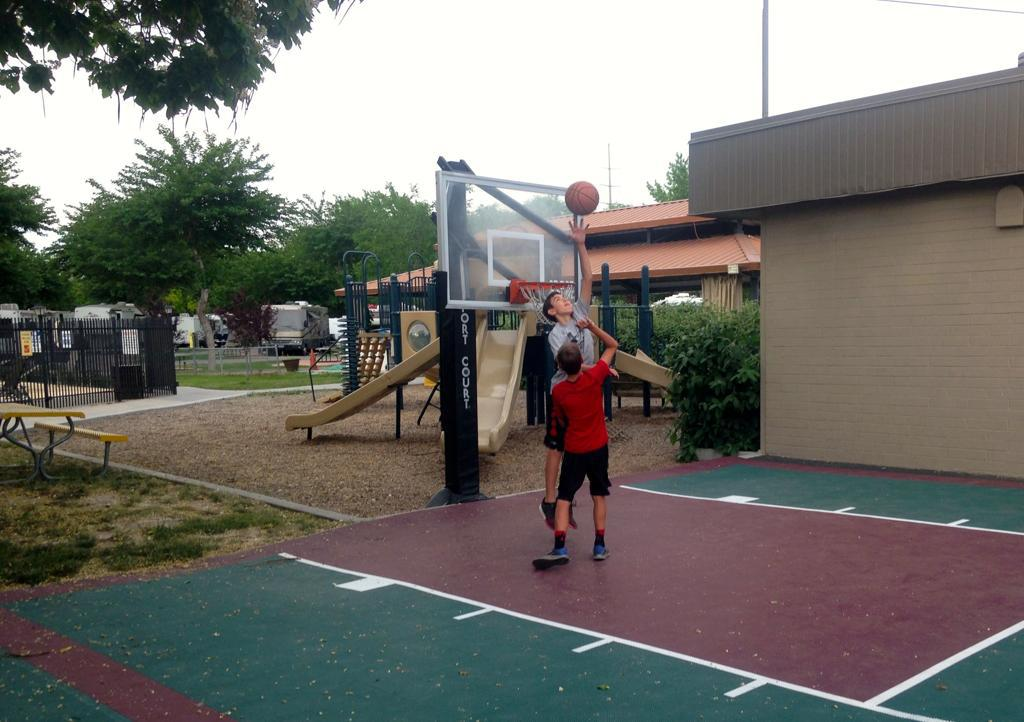face: (551, 295, 574, 313)
